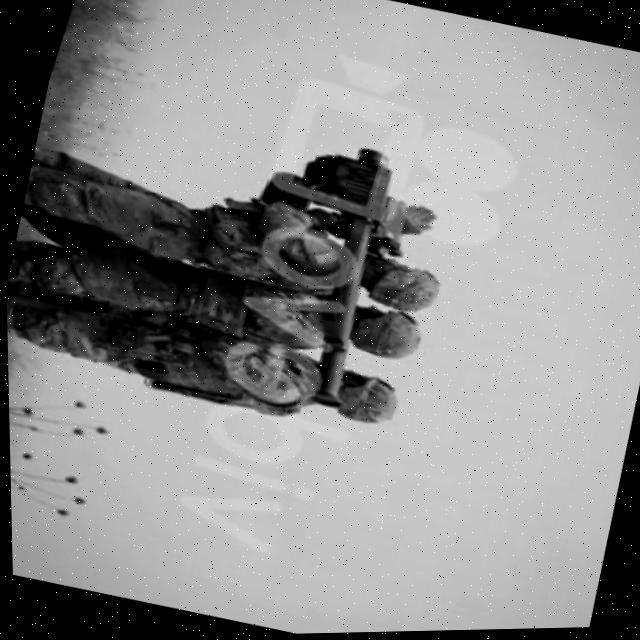rocket: (267, 137, 429, 421)
